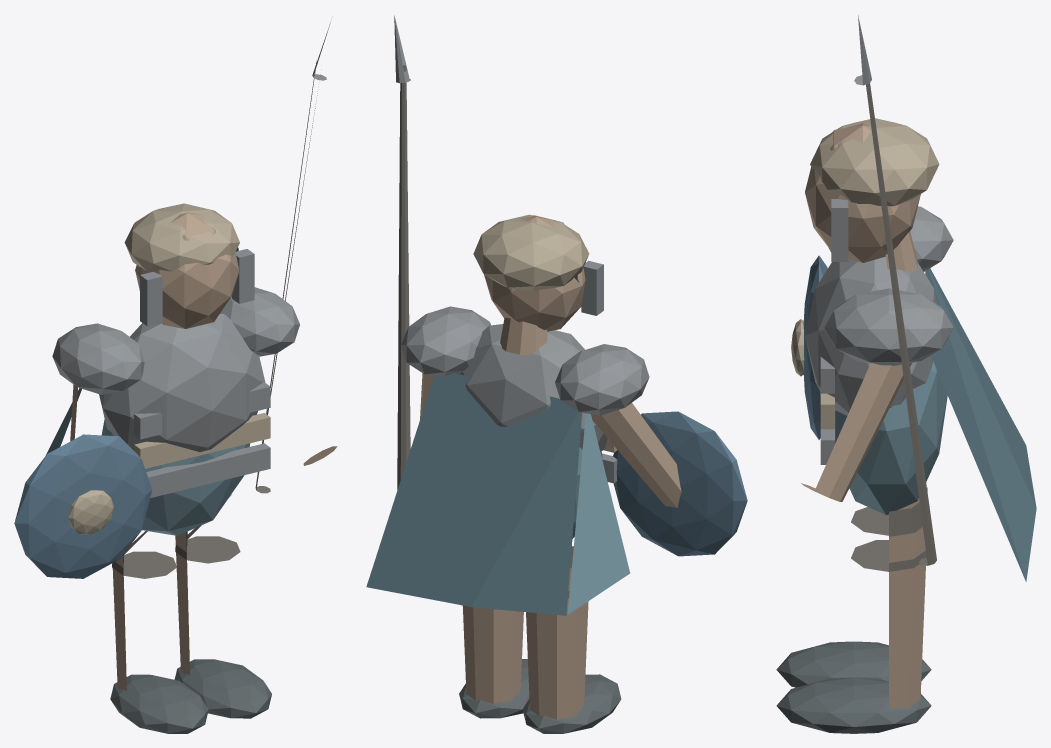
The model's file is enemy-light.glb.
3 views of the same model, side by side, from view 1: azimuth 30°, elevation 25°; view 2: azimuth 150°, elevation 25°; view 3: azimuth 270°, elevation 25° (orthographic). The views are drawn at different scales.
Parts seen in each view (by area): view 1: world; view 2: world; view 3: world.
Boxes of the visible parts, <box> form: world: <box>14,22,337,733</box>; world: <box>366,15,747,733</box>; world: <box>776,15,1036,733</box>.
Size of the model in its own units: 17.5 by 33.05 by 10.05.
